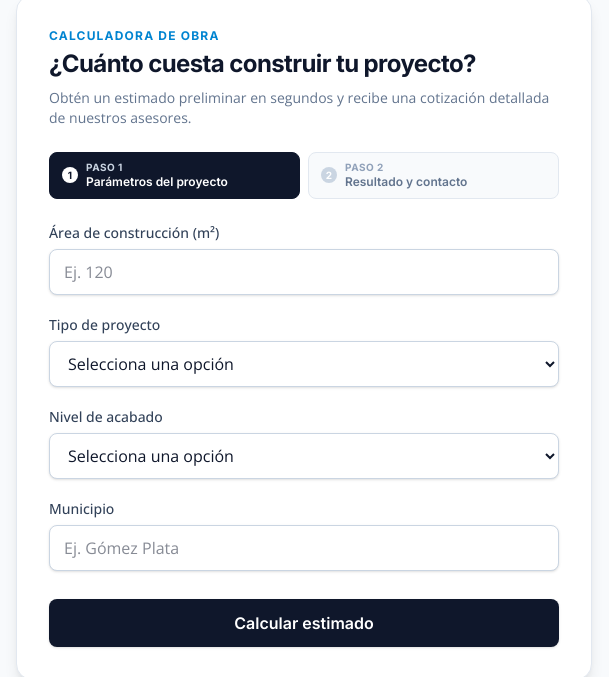
it: BudgetCalculator › avanza al paso 2 (estimado + captura de lead) cuando el cálculo se completa
In the number field labelled "Área de construcción (m²)": (304, 272) [49,248,559,294], type "100"
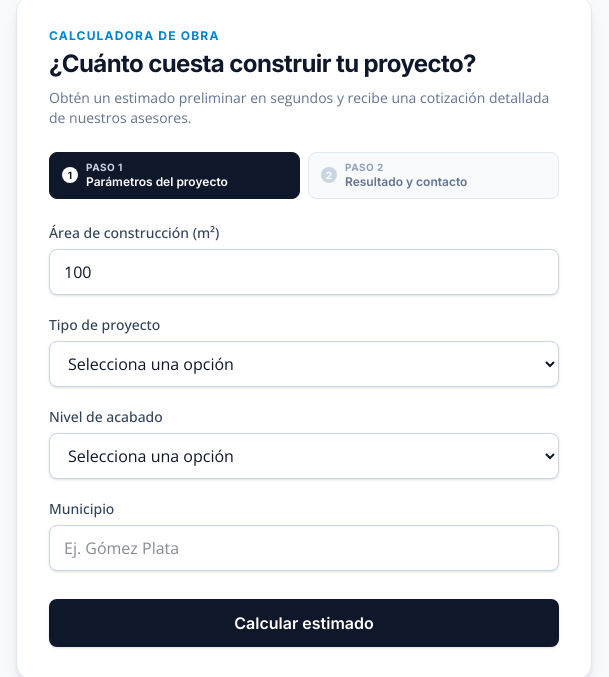
Select "Vivienda" in the dropdown labelled "Tipo de proyecto": (304, 364) [49,340,559,386]
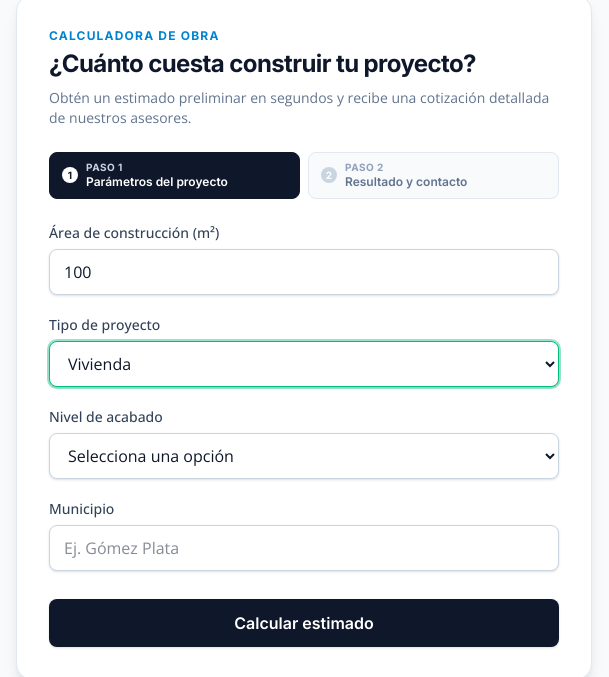
Select "Básico" in the dropdown labelled "Nivel de acabado": (304, 456) [49,432,559,478]
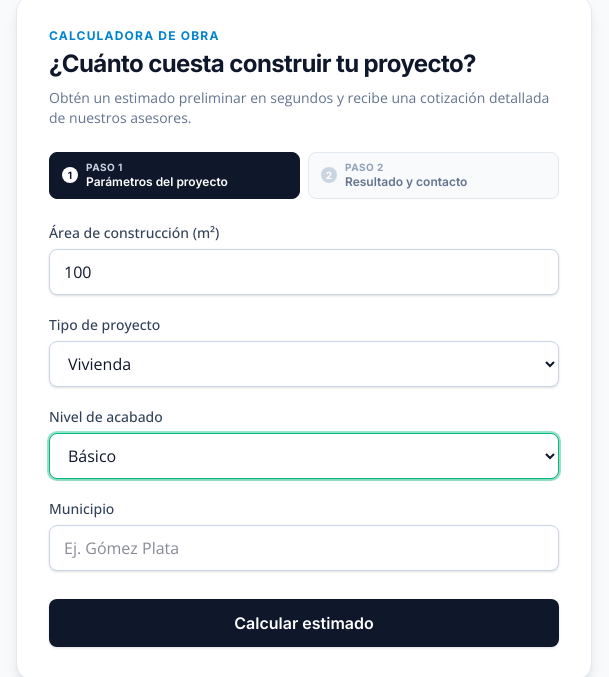
In the field labelled "Municipio": (304, 548) [49,524,559,570], type "Gómez Plata"
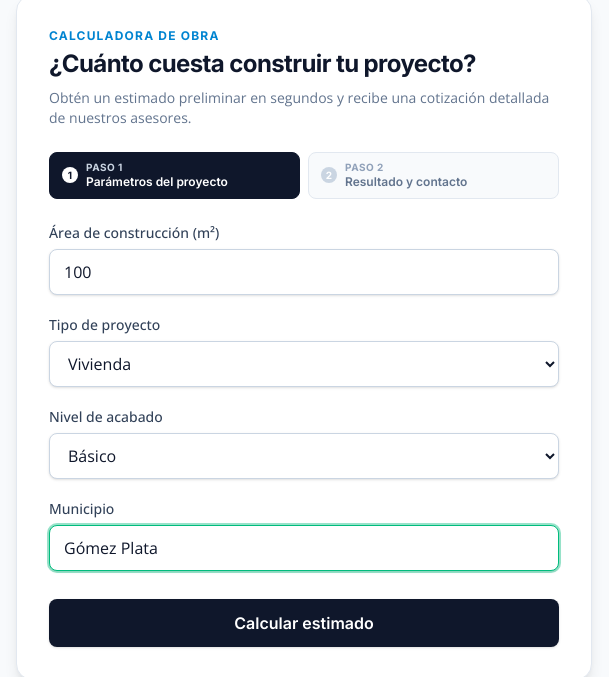
Click the button "Calcular estimado": (304, 622) [49,598,559,646]
(page scrolled)
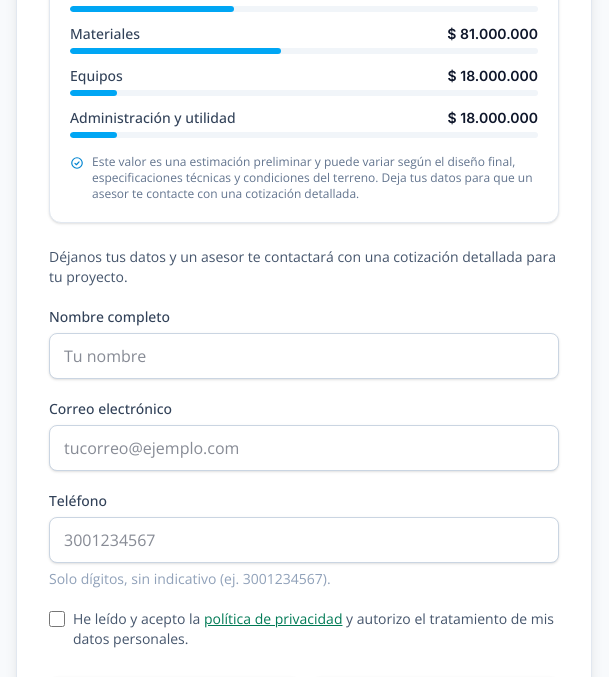
Check: the field labelled "Nombre completo" is shown, box [49,332,559,378]
